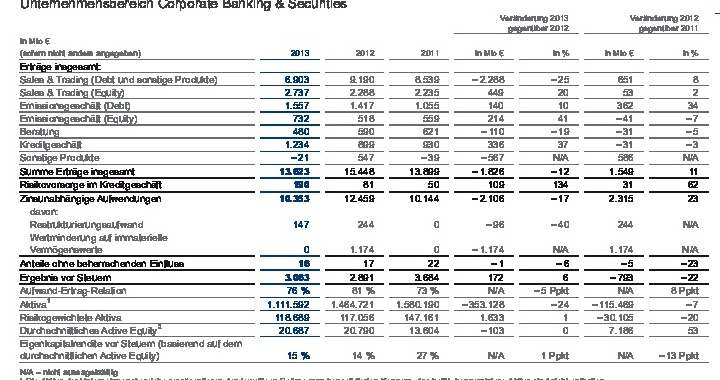table: (0, 0, 720, 380)
